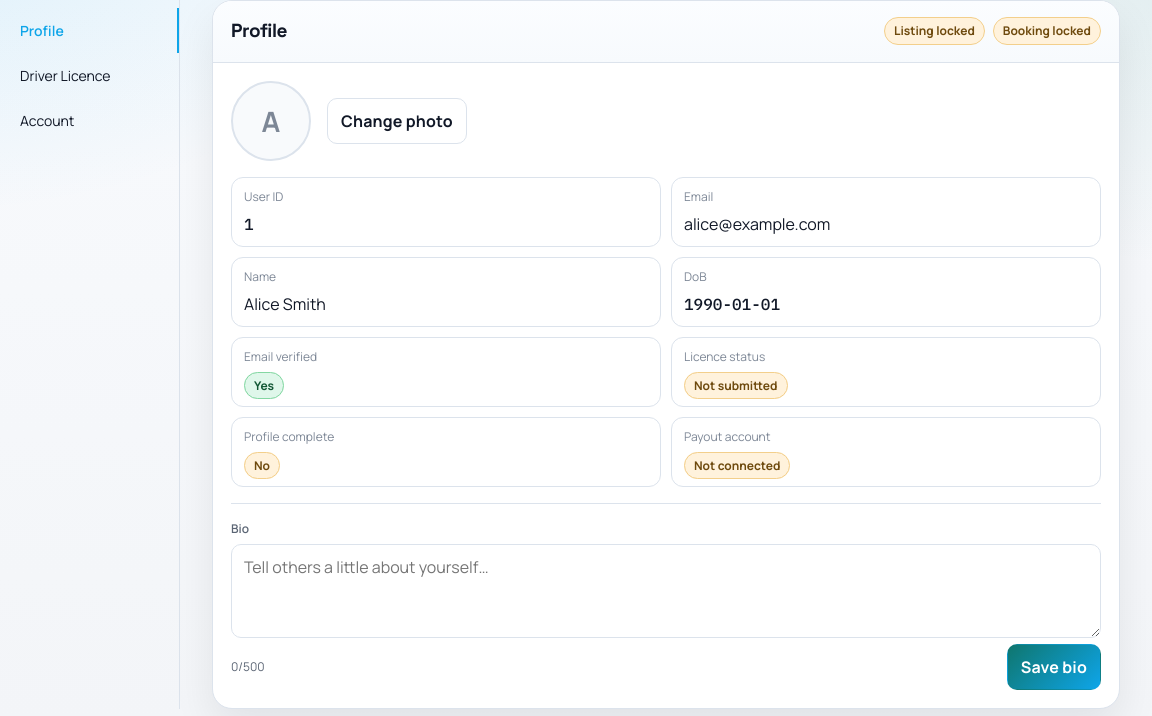
Test: ProfilePage — change password form › Update Password button is enabled when all three fields have values
Click the button "Account" at (90, 120), box [0,98,179,143]
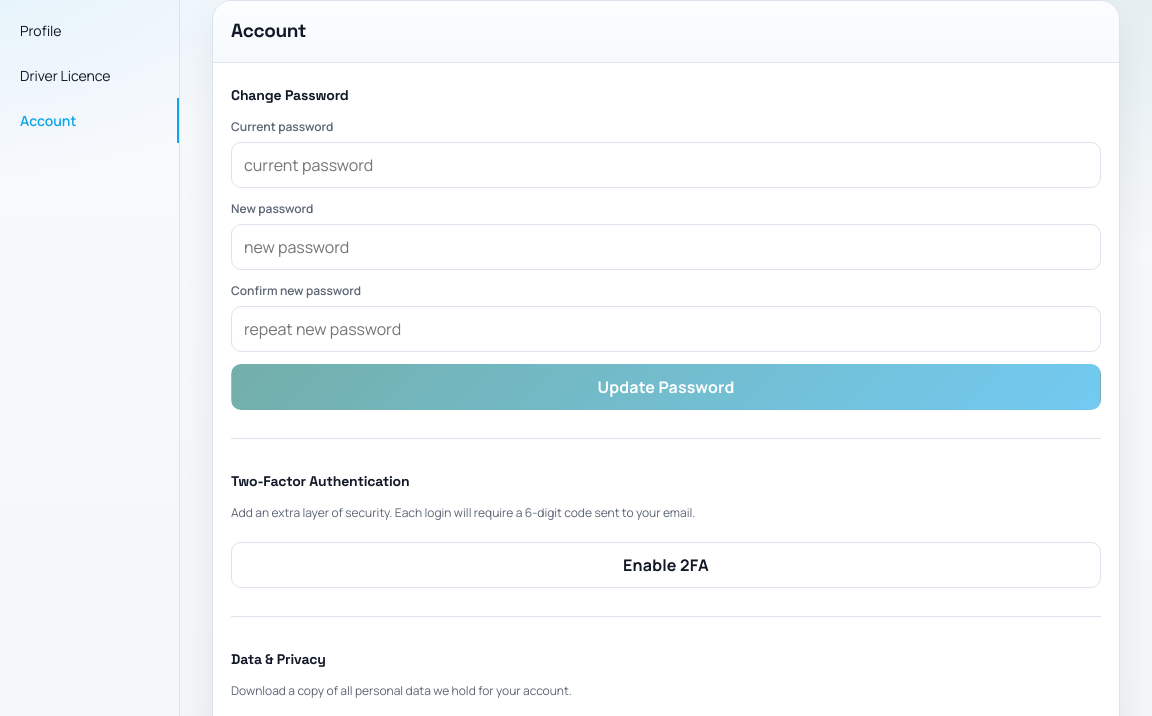
Type "oldpass" into the password field labelled "Current password" at (666, 164), box [231,142,1101,188]
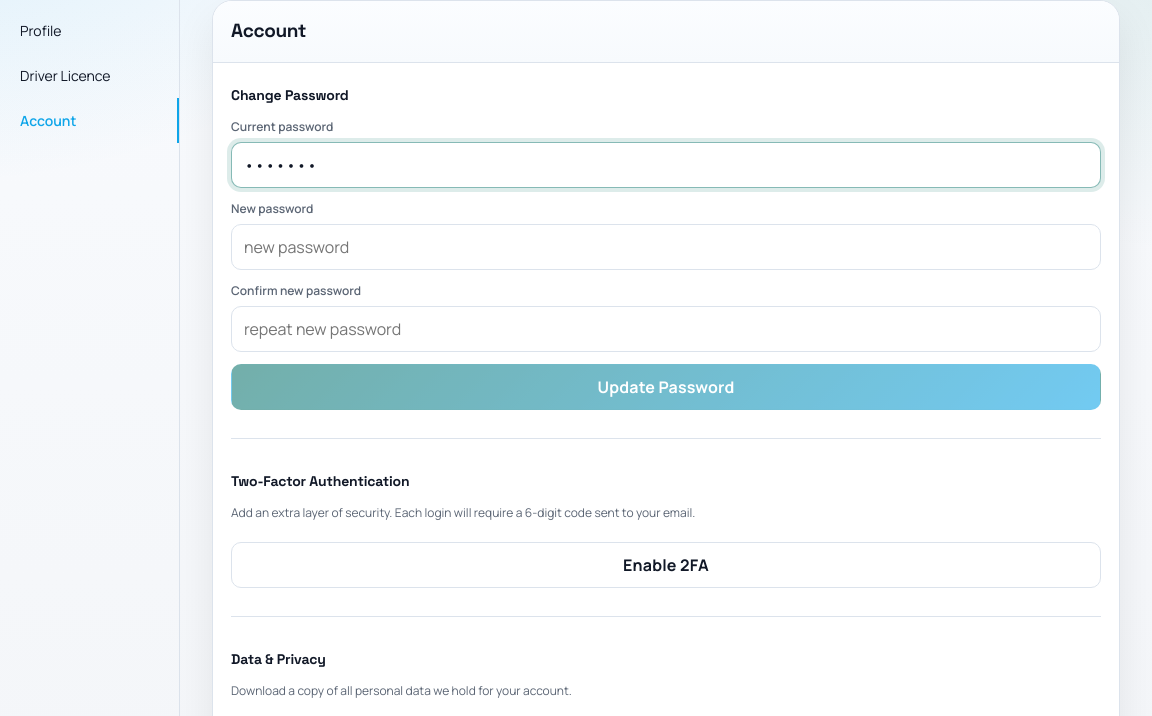
Type "newpass" into the password field labelled "New password" at (666, 246), box [231,224,1101,270]
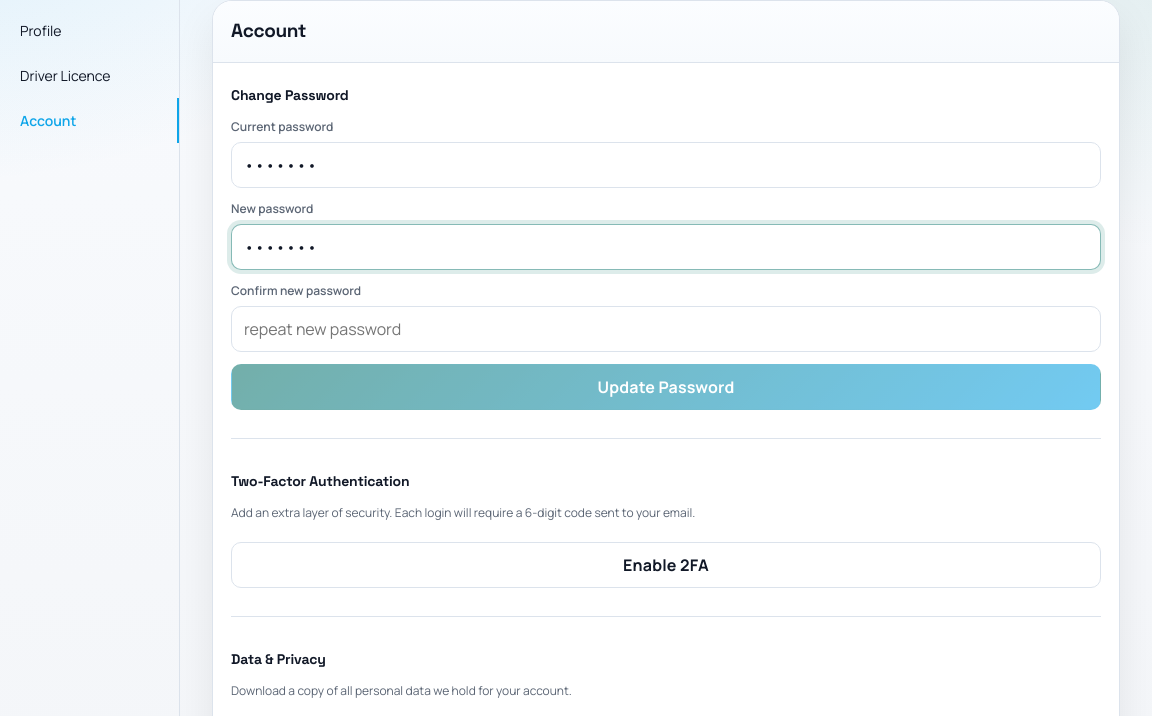
Type "newpass" into the password field labelled "Confirm new password" at (666, 328), box [231,306,1101,352]
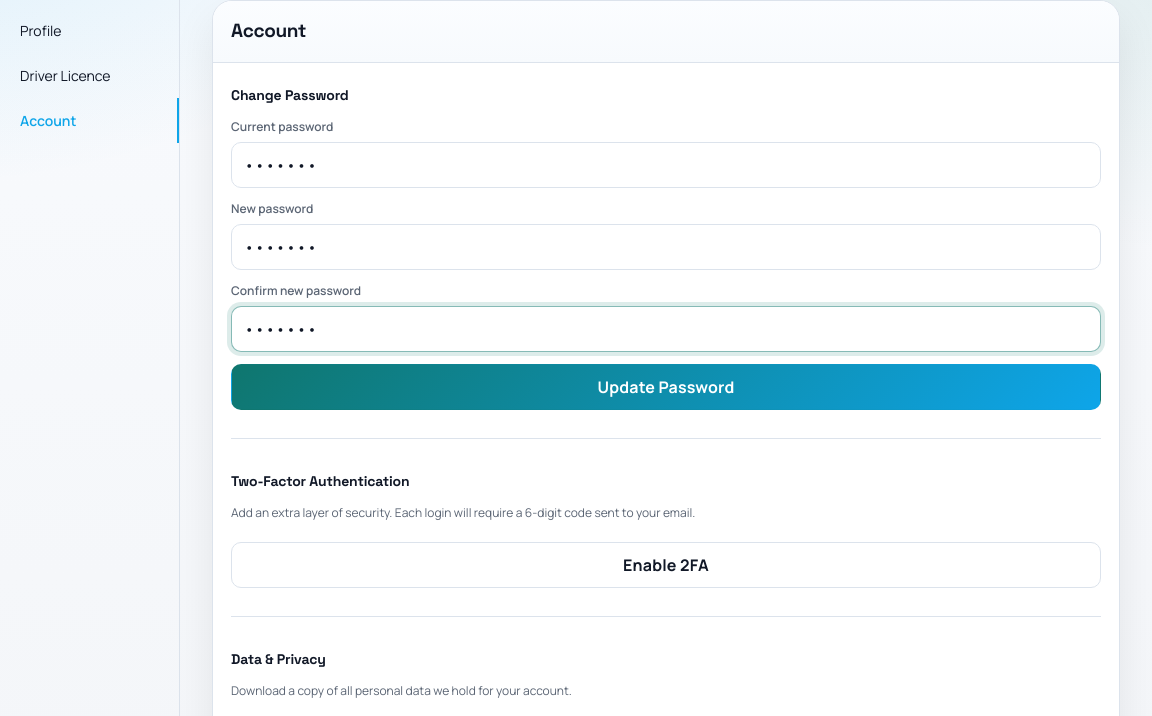
Check: the button "Update Password" is enabled, box [231,364,1101,410]
